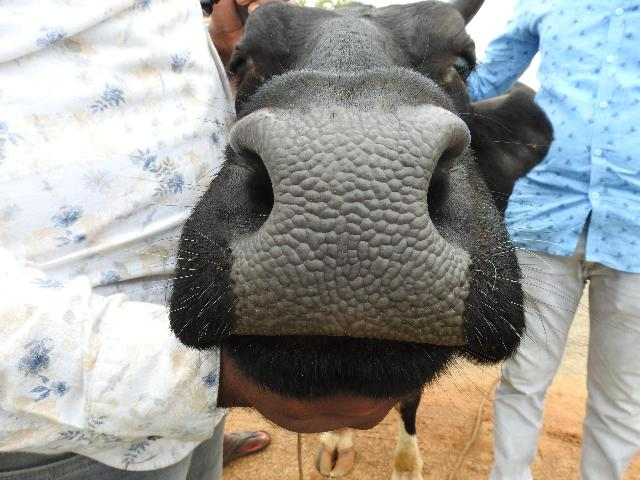Muzzle: (236, 120, 454, 348)
